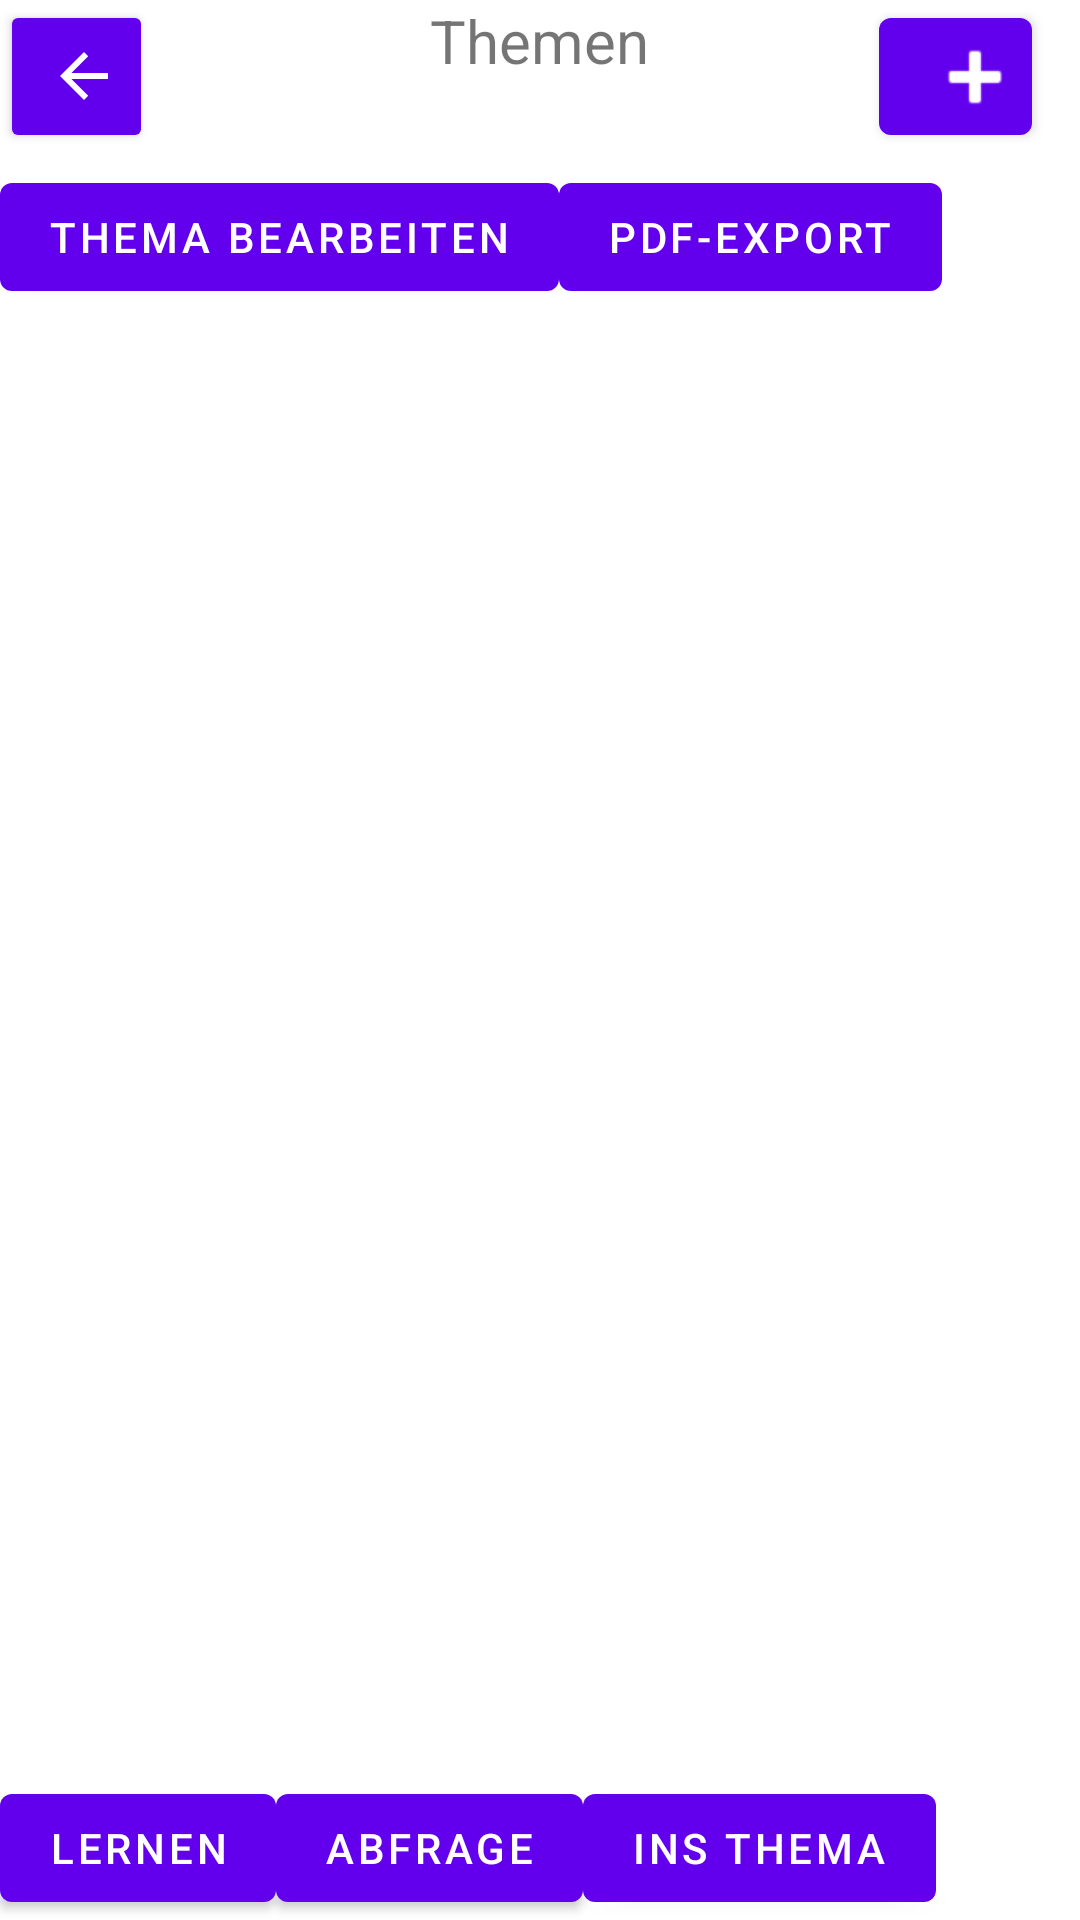

Icons on this 1080px×1920px Android screen, each with its box as {"left": x1, "top": y1, "right": x2, "bottom": y2}:
add: {"left": 879, "top": 18, "right": 1032, "bottom": 135}
